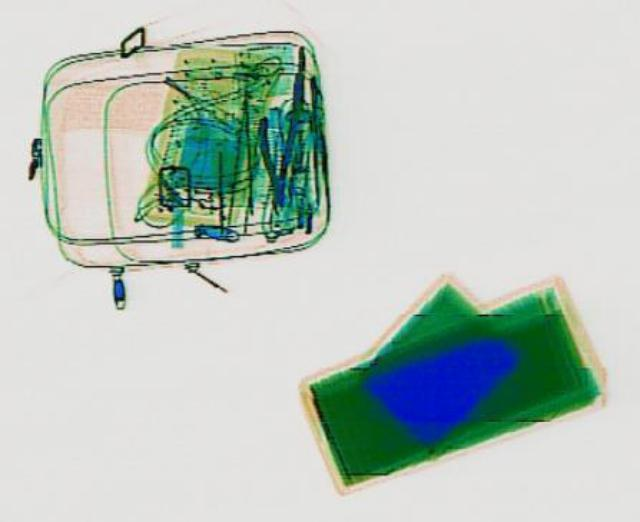Pliers: (254, 114, 296, 209)
